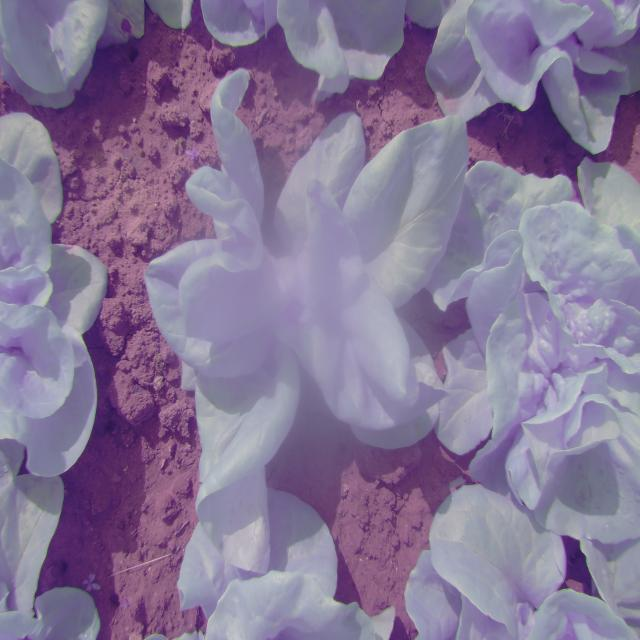vege: (137, 68, 464, 482)
